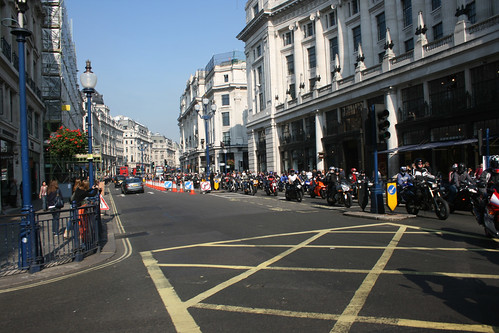building: (250, 1, 499, 170), (1, 1, 75, 194), (175, 65, 249, 168), (90, 108, 129, 167), (123, 116, 154, 172)
light pole: (74, 54, 104, 247)
motorcycle: (402, 183, 451, 219), (321, 180, 354, 210), (283, 180, 307, 202)
sky: (76, 4, 224, 98)
street: (80, 197, 456, 333)
